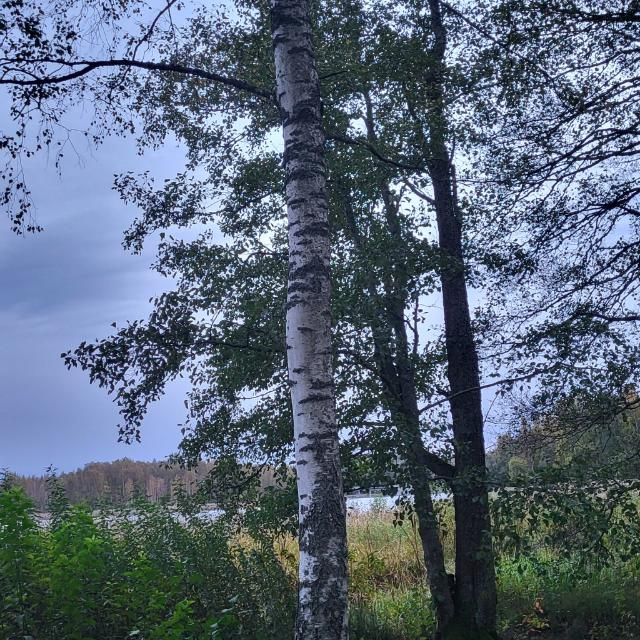birch: (223, 0, 431, 640)
